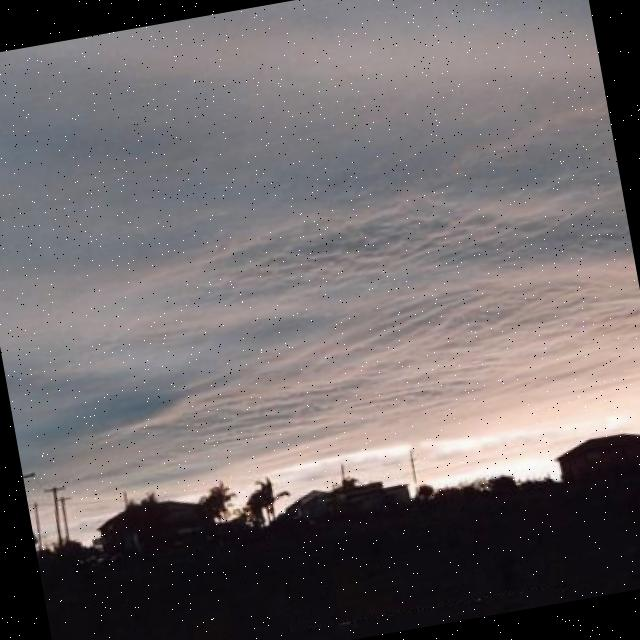As: (1, 12, 640, 475)
